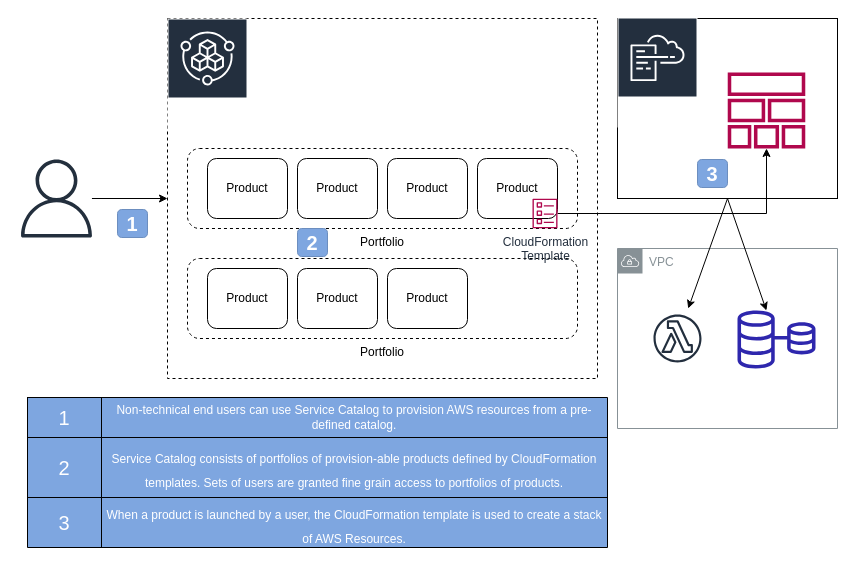
The diagram is 855 pixels wide and 565 high, and some of its shapes have lost their labels. The shapes that lost their labels are listed below. From the top down, each one's box as (x1, y1, x2, y2) in pixels, then its label:
(166, 18, 248, 128): AWS Service Catalog
(616, 16, 698, 128): AWS CloudFormation
(727, 72, 805, 148): Stack
(646, 308, 708, 368): Lambda Function
